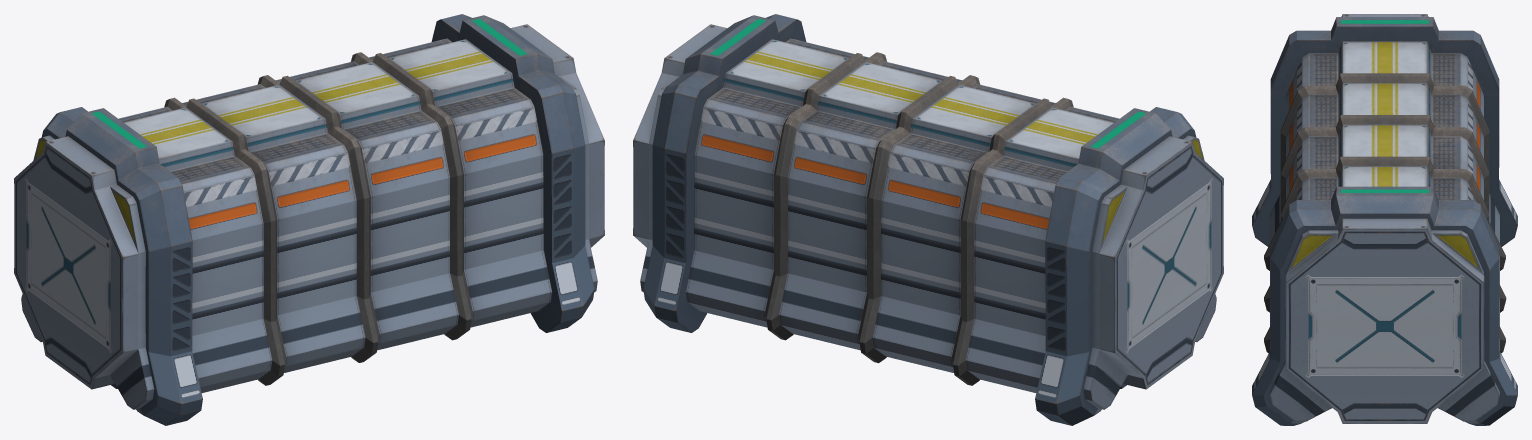
The model's file is CrateLarge.fbx.
3 renders of one model, left to right at view 1: azimuth 30°, elevation 25°; view 2: azimuth 150°, elevation 25°; view 3: azimuth 270°, elevation 25°, orthographic. The views are drawn at different scales.
Visible parts, largest first — view 1: polySurface3560; view 2: polySurface3560; view 3: polySurface3560.
Boxes of the visible parts, left/top/right/bottom form: polySurface3560: left=14, top=14, right=604, bottom=425; polySurface3560: left=633, top=14, right=1223, bottom=425; polySurface3560: left=1252, top=14, right=1517, bottom=425.
Size of the model in its own units: 14.38 by 7.18 by 7.53.
